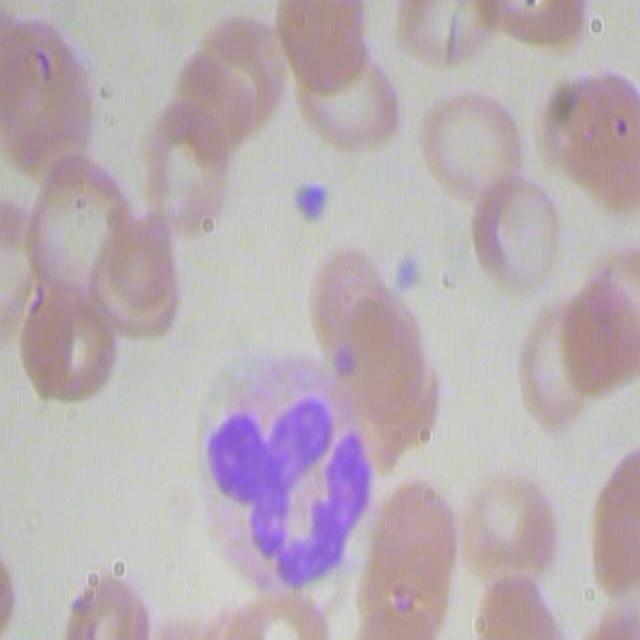RBC: (28, 154, 134, 322), (181, 17, 288, 146), (0, 23, 94, 169), (368, 488, 452, 638), (421, 89, 524, 205), (16, 280, 114, 400), (94, 217, 178, 337), (297, 51, 397, 144), (463, 481, 558, 578), (154, 98, 218, 241), (350, 301, 424, 424), (318, 259, 392, 380), (362, 335, 440, 449), (274, 0, 368, 89), (480, 177, 552, 286), (559, 289, 627, 402), (583, 74, 638, 212), (395, 0, 503, 69), (520, 306, 580, 428), (595, 449, 640, 595), (212, 592, 325, 640), (479, 0, 585, 49), (69, 578, 150, 640), (537, 81, 591, 168), (482, 572, 547, 640)
WBC: (215, 401, 369, 584)
platelets: (298, 185, 330, 226), (397, 261, 417, 294)
